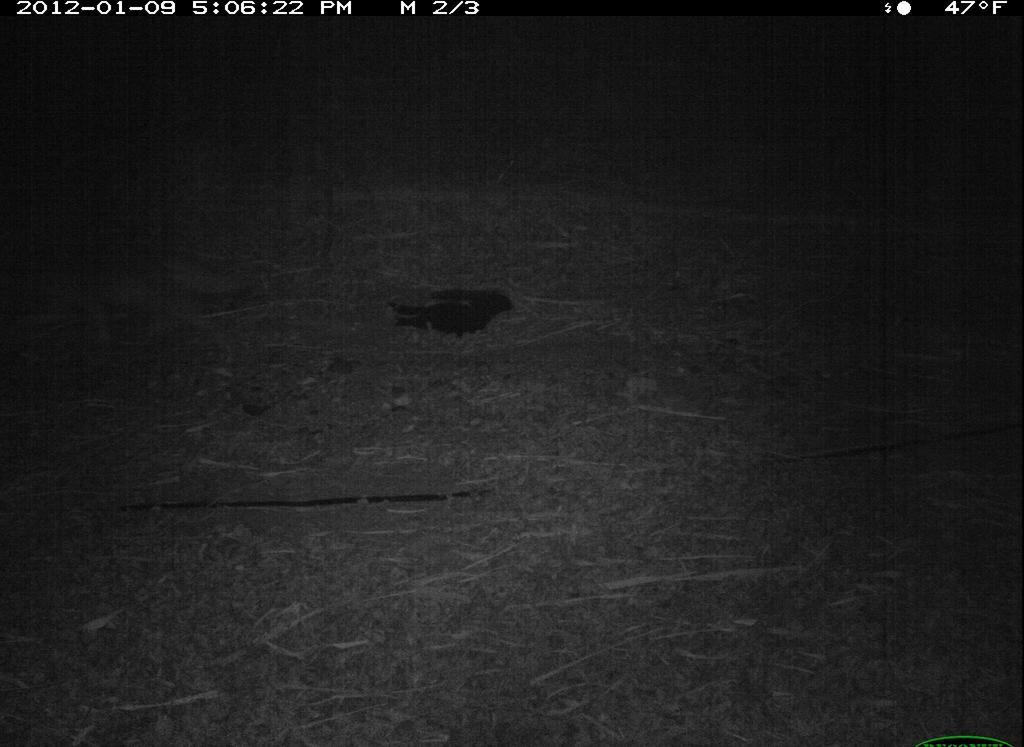coyote: (29, 241, 258, 365)
